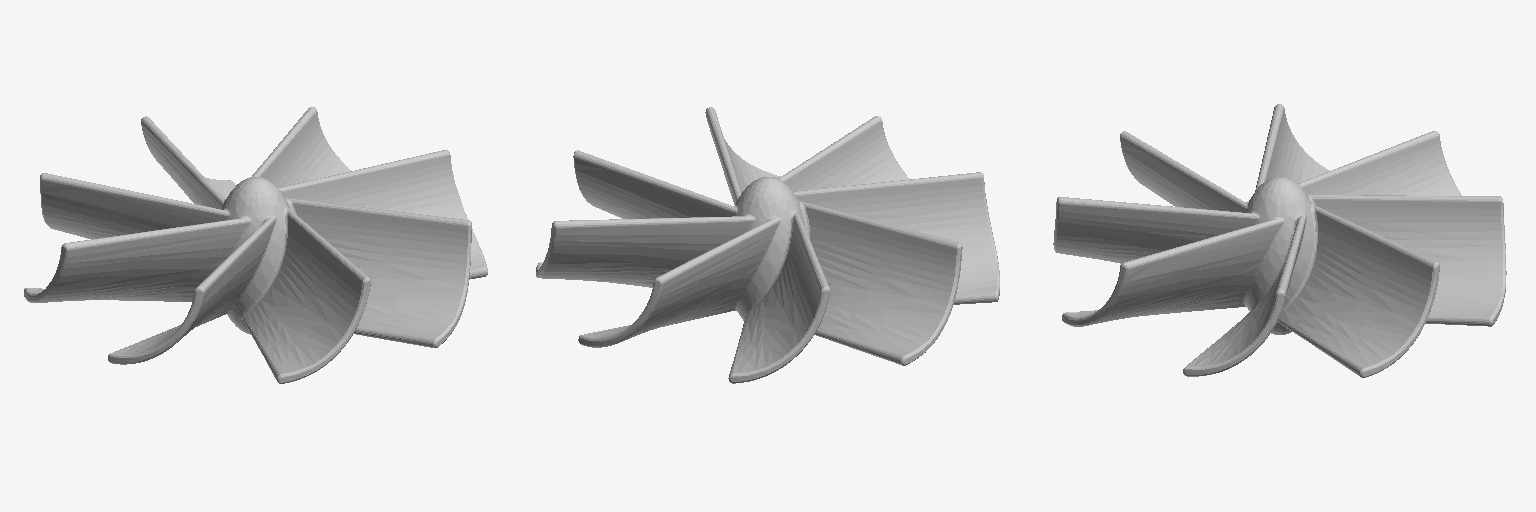
The model's file is vent_fan.obj.
3 renders of one model, left to right at view 1: azimuth 30°, elevation 25°; view 2: azimuth 150°, elevation 25°; view 3: azimuth 270°, elevation 25°, orthographic.
Visible parts, largest first — view 1: uploads_files_86610_Fan__2_; view 2: uploads_files_86610_Fan__2_; view 3: uploads_files_86610_Fan__2_.
Boxes of the visible parts, <box> form: uploads_files_86610_Fan__2_: <box>24,107,487,383</box>; uploads_files_86610_Fan__2_: <box>536,107,999,383</box>; uploads_files_86610_Fan__2_: <box>1053,104,1506,377</box>.
Bounding box in the file's own units: 1.24 × 0.4682 × 1.24.